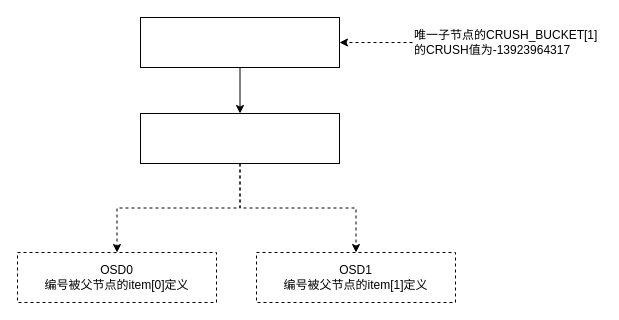
This 619x320 diagram has some shape labels left out. Here are the shapes that lost their labels. From the top down, the centre of each, then its label:
At point 240,42: "crush_bucket[0] id=-3, items=-3".
At point 240,138: "crush_bucket[1] id=-3, size=2, items[0]=0, items[1]=1".
